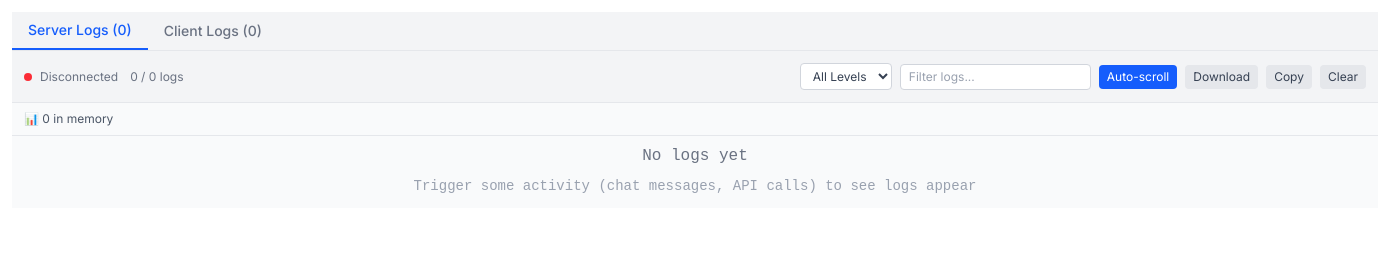
Test case: LogViewer Integration Tests › tab switching › updates stats when switching to client tab
Click the button "Client Logs (0)".
click(213, 31)  # box [148,12,278,50]
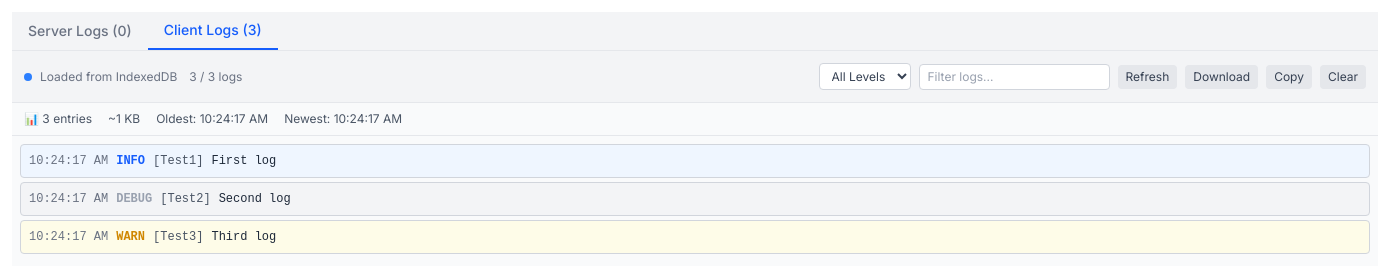
Check: the text "📊 3 entries" is shown, box [24,111,92,126]
